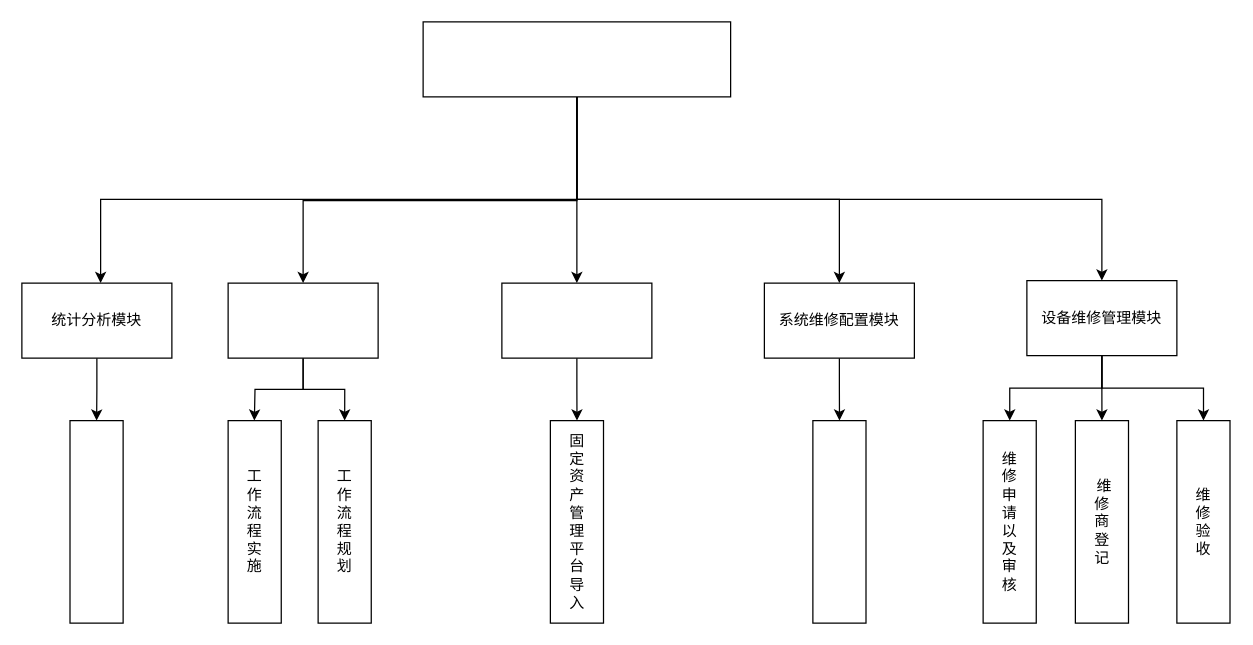
This 1253x645 diagram has some shape labels left out. The shapes that lost their labels are listed below. From the top down, each one's box as (x1, y1, x2, y2) in pixels, then its label:
(422, 21, 731, 97): 实验室维修管理系统
(227, 282, 378, 358): 工作流程管理模块
(501, 282, 652, 358): 基础数据导入模块
(69, 419, 123, 623): 数 据 分 析
(812, 419, 866, 623): 权限控制
